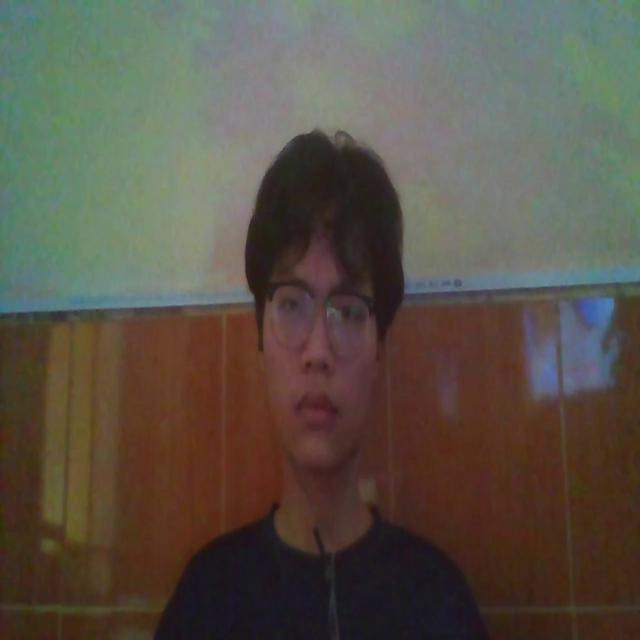student: (152, 120, 489, 640)
